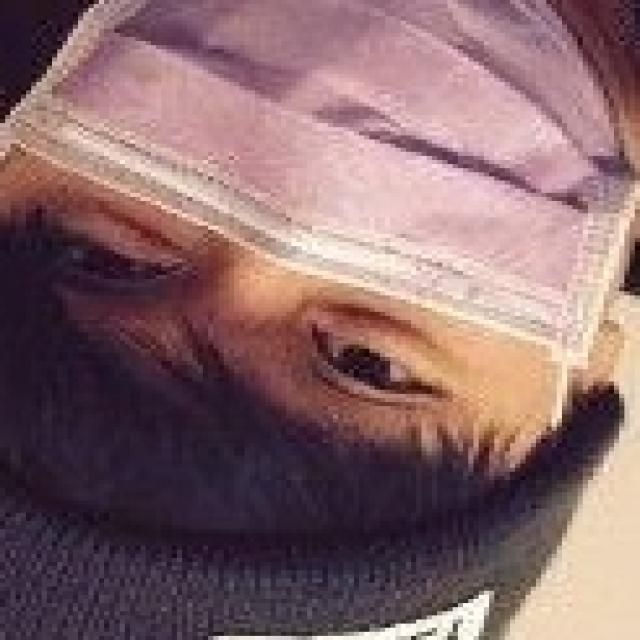mask: (14, 11, 608, 415)
